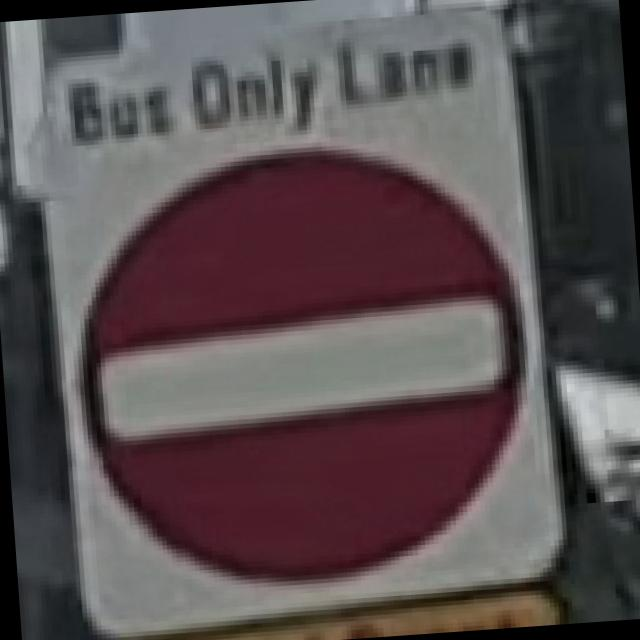noentry_sign: (22, 125, 576, 640)
